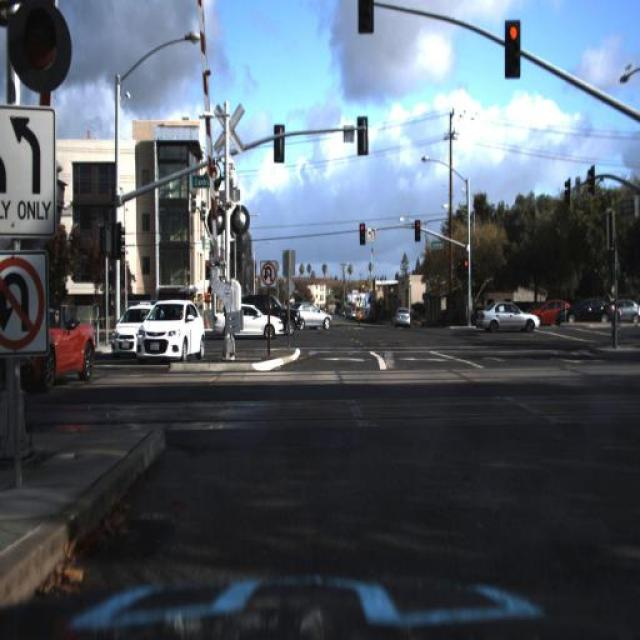car: (0, 302, 95, 386), (134, 298, 210, 362), (211, 298, 280, 347), (110, 303, 161, 353), (470, 301, 539, 337), (112, 304, 156, 358), (249, 293, 300, 338), (556, 298, 618, 327), (529, 296, 575, 330), (508, 300, 542, 328), (395, 297, 417, 332)
trafficLight-Green: (13, 1, 68, 87), (356, 1, 376, 34)
trafficLight-RedLeft: (503, 18, 522, 78), (412, 213, 423, 246), (357, 218, 367, 248), (462, 252, 471, 284), (414, 216, 420, 242)
